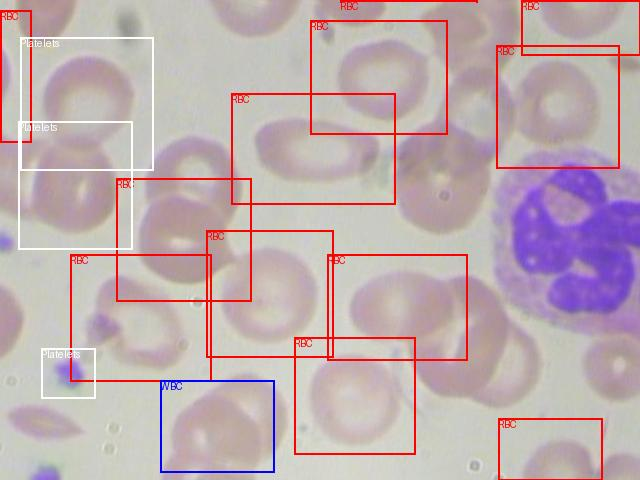Platelets: (20, 37, 153, 170), (18, 121, 132, 249), (41, 348, 95, 398)
RBC: (231, 93, 395, 204), (70, 254, 211, 381), (116, 178, 251, 301), (206, 230, 333, 357), (310, 20, 447, 134), (496, 45, 619, 168), (327, 254, 467, 360), (294, 337, 415, 454), (521, 0, 640, 55), (498, 418, 602, 480), (0, 10, 31, 142)
WBC: (160, 380, 274, 472)
